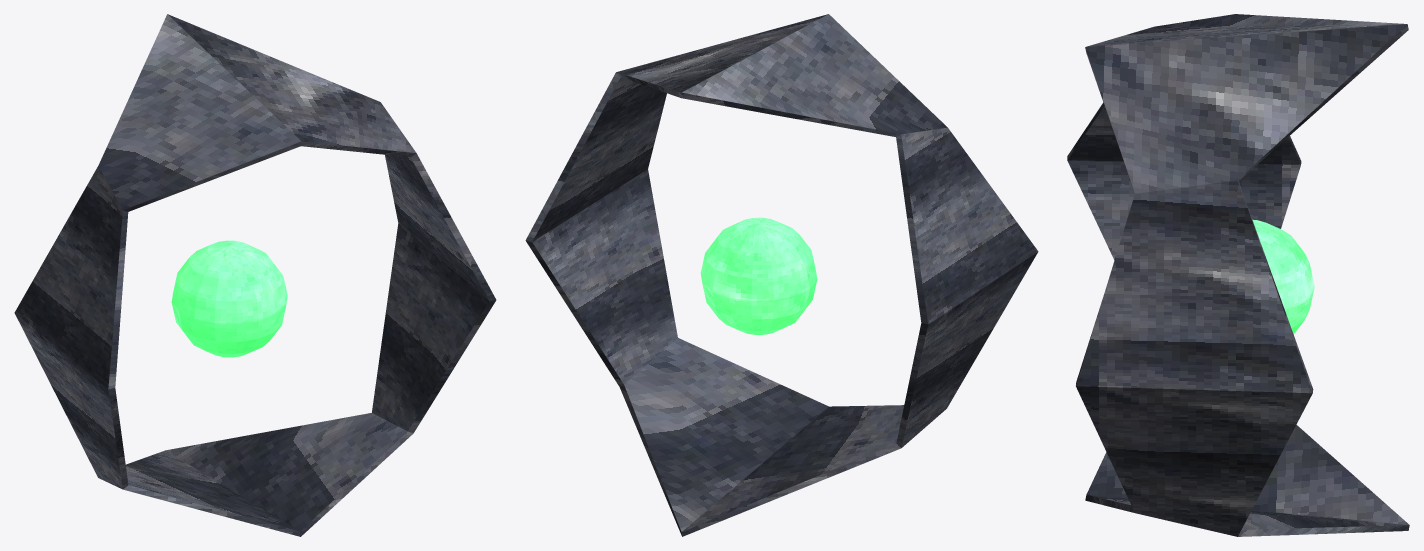
File: Turret.gltf
3 views of the same model, side by side, from view 1: azimuth 30°, elevation 25°; view 2: azimuth 150°, elevation 25°; view 3: azimuth 270°, elevation 25° (orthographic). The views are drawn at different scales.
Parts seen in each view (by area): view 1: 円, 球; view 2: 円, 球; view 3: 円, 球.
Boxes of the visible parts, x1,y1,x2,y2 form: 円: [14, 14, 496, 536]; 球: [171, 240, 287, 357]; 円: [525, 14, 1038, 536]; 球: [700, 217, 817, 334]; 円: [1067, 14, 1409, 536]; 球: [1252, 219, 1314, 333].
Size of the model in its own units: 0.6112 by 0.6391 by 0.391.
Materials: 2 (2 with a texture image).
